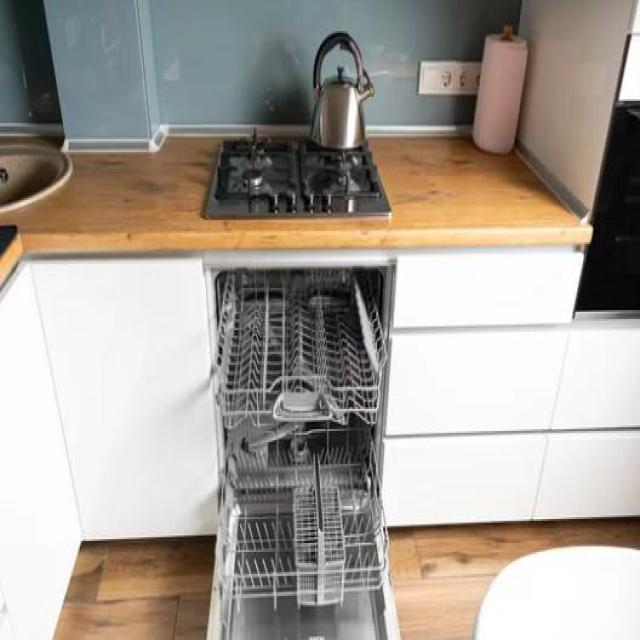dishwasher: (200, 255, 405, 638)
